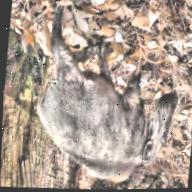boar: (14, 0, 187, 192)
